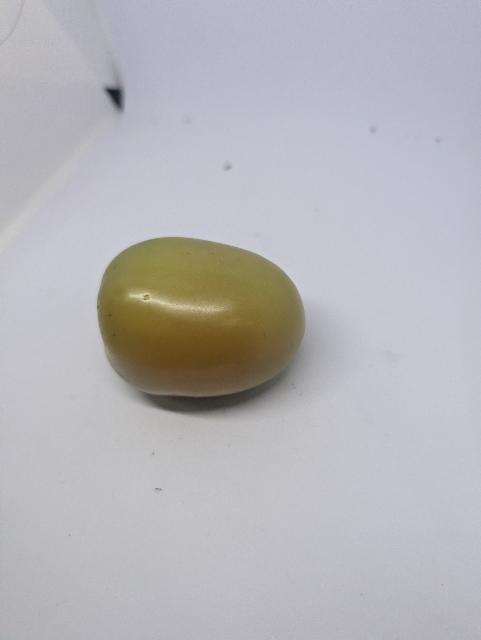breaker: (94, 233, 311, 400)
